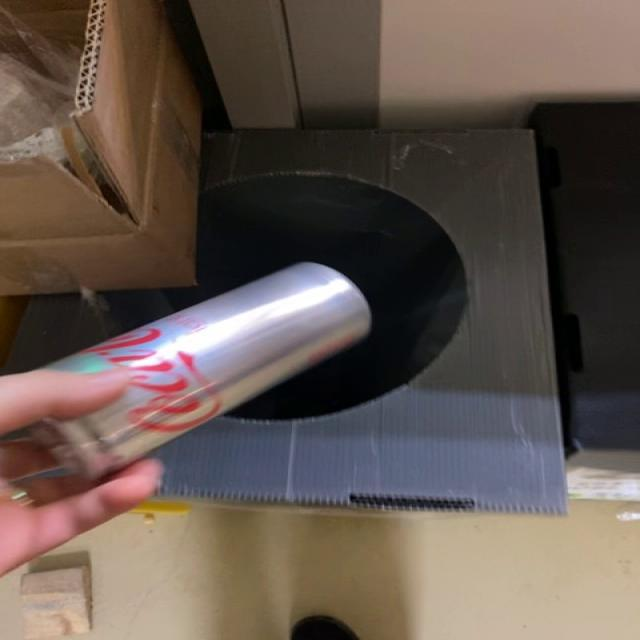bin: (8, 129, 564, 514)
metal: (1, 263, 372, 506)
